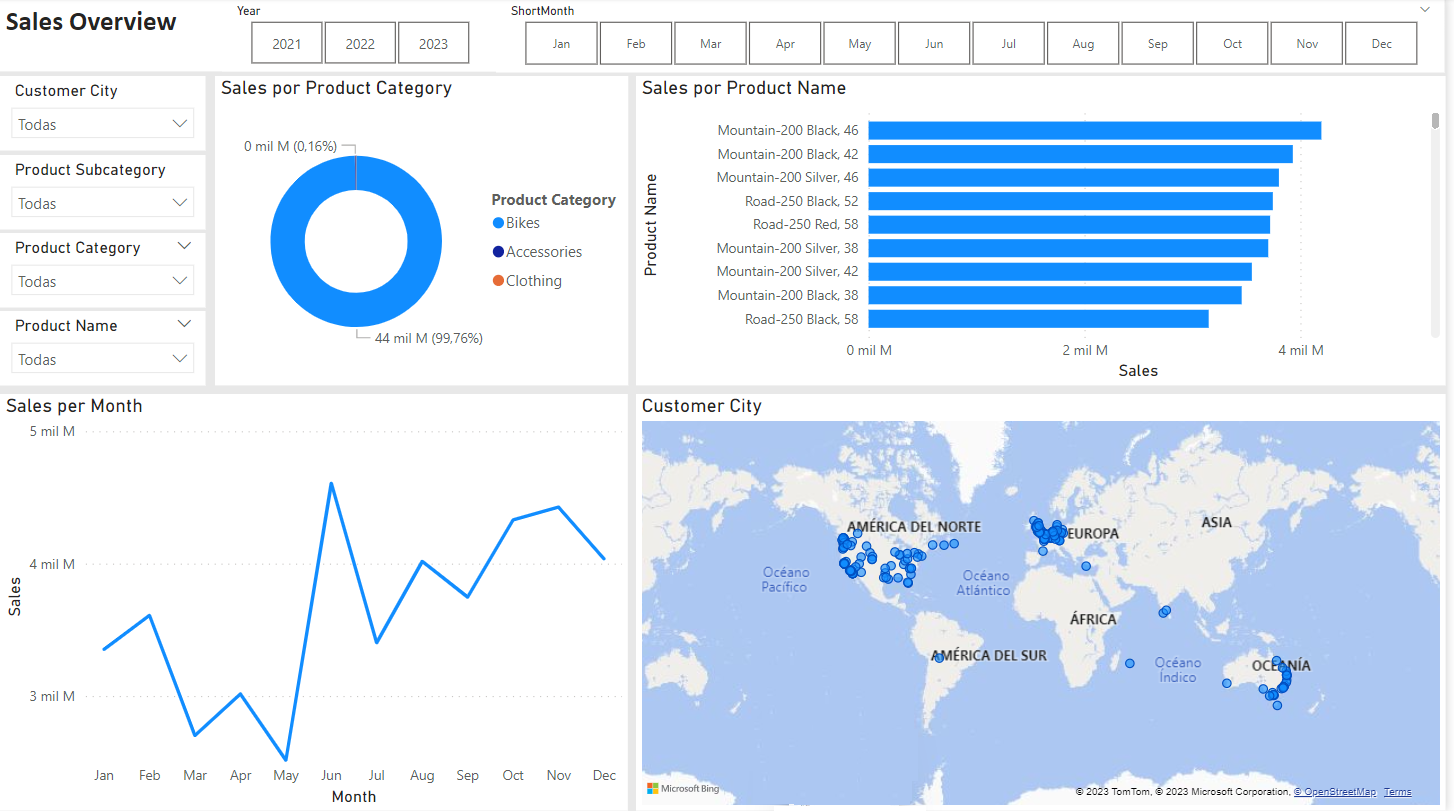

This screenshot's page, from the dashboard's own definition file:
{"tool":"powerbi","page":{"name":"Página 1","canvas":[1280,720],"ordinal":0},"visuals":[{"type":"textbox","box":[0,0,1273.2,65.3],"z":0},{"type":"slicer","fields":{"Values":["Customers.Customer City"]},"box":[0,69.1,181.9,66.1],"z":1000},{"type":"slicer","fields":{"Values":["Product.Product Subcategory"]},"box":[0,139.1,181.9,66],"z":2000},{"type":"slicer","fields":{"Values":["Product.Product Category"]},"box":[0,208.1,181.9,66],"z":3000},{"type":"slicer","fields":{"Values":["Product.Product Name"]},"box":[0,277.2,181.9,66],"z":4000},{"type":"slicer","fields":{"Values":["InternetSales.Year"]},"box":[196.9,0,242.7,65.3],"z":5000},{"type":"slicer","fields":{"Values":["Dates.ShortMonth"]},"box":[439.7,0,840.3,66.3],"z":6000},{"type":"donutChart","fields":{"Category":["Product.Product Category"],"Y":["InternetSales.Sales"]},"box":[190.1,69.2,365.6,273.9],"z":7000},{"type":"lineChart","title":"Sales per Month","fields":{"Y":["InternetSales.Sales"],"Category":["Dates.ShortMonth"]},"box":[0,351,555.7,369.5],"z":8000},{"type":"barChart","fields":{"Category":["Product.Product Name"],"Y":["InternetSales.Sales"]},"box":[562.9,68.8,717.1,274.1],"z":9000},{"type":"map","fields":{"Category":["Customers.Customer City"]},"box":[563,351,717,369],"z":10000}]}

Visuals, with their boxes in screenshot pixels (x1, y1, x2, y2), scaled from the page's 1280x720 canvas onto the 1454x811 screenshot:
textbox: 0 0 1446 74
slicer - Customers.Customer City: 0 78 207 152
slicer - Product.Product Subcategory: 0 157 207 231
slicer - Product.Product Category: 0 234 207 309
slicer - Product.Product Name: 0 312 207 387
slicer - InternetSales.Year: 224 0 499 74
slicer - Dates.ShortMonth: 499 0 1453 75
donutChart - Product.Product Category x InternetSales.Sales: 216 78 631 386
"Sales per Month" lineChart: 0 395 631 810
barChart - Product.Product Name x InternetSales.Sales: 639 77 1453 386
map - Customers.Customer City: 640 395 1453 810
